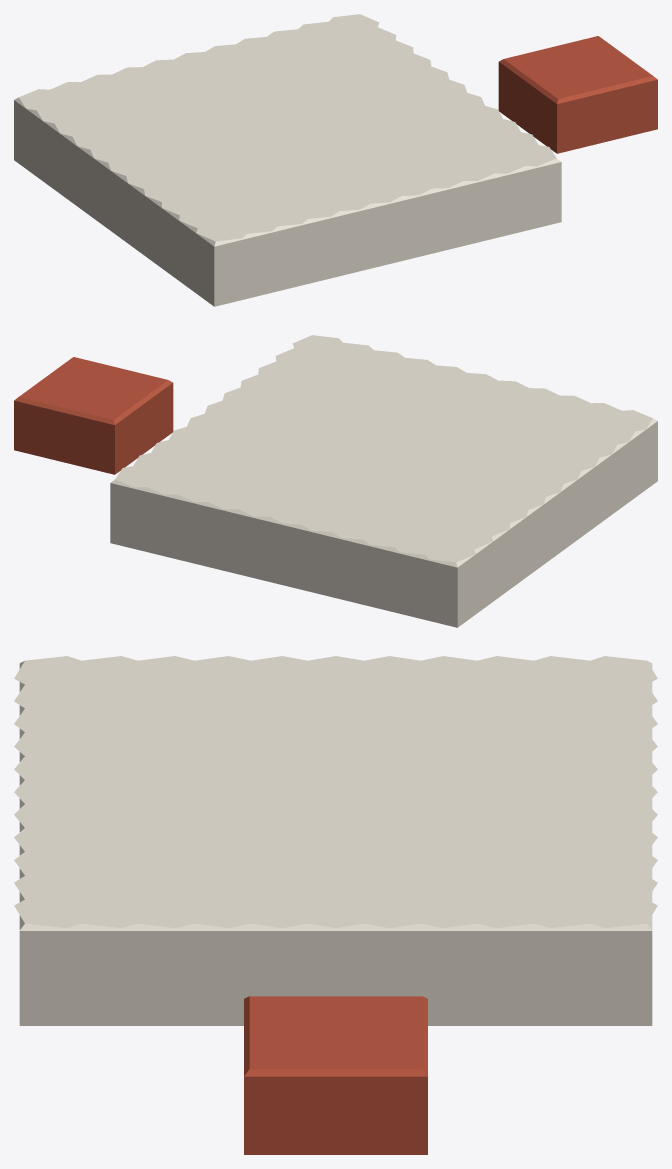
Rendered from mahsulot.glb.
3 views of the same model, one above another, from view 1: azimuth 30°, elevation 25°; view 2: azimuth 150°, elevation 25°; view 3: azimuth 270°, elevation 25° (orthographic). The views are drawn at different scales.
Parts seen in each view (by area): view 1: mahsulot_A, mahsulot_B; view 2: mahsulot_A, mahsulot_B; view 3: mahsulot_A, mahsulot_B.
Boxes of the visible parts, x1,y1,x2,y2 form: mahsulot_A: [14, 14, 561, 306]; mahsulot_B: [498, 36, 657, 153]; mahsulot_A: [110, 335, 657, 627]; mahsulot_B: [14, 357, 173, 474]; mahsulot_A: [14, 656, 657, 1025]; mahsulot_B: [244, 996, 427, 1154].
Bounding box in the file's own units: 0.2565 × 0.03 × 0.175.
